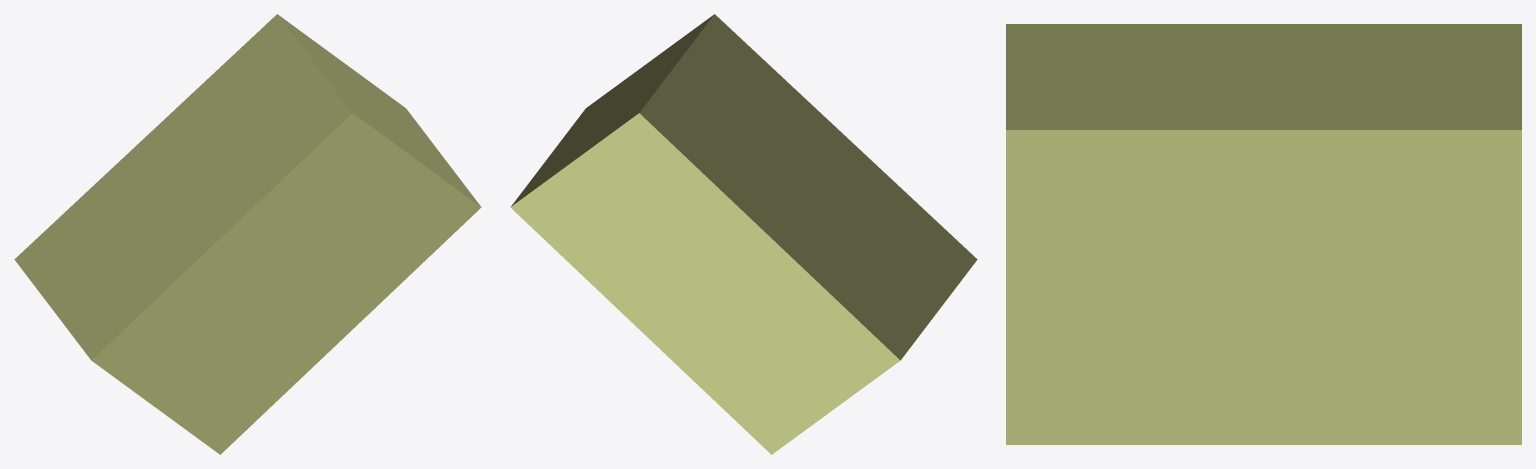
The picture shows the model from 3 angles, left to right: view 1: azimuth 30°, elevation 25°; view 2: azimuth 150°, elevation 25°; view 3: azimuth 270°, elevation 25°; orthographic projection. The views are drawn at different scales.
Visible parts, largest first — view 1: 0_1_0_0_3_0_3_2; view 2: 0_1_0_0_3_0_3_2; view 3: 0_1_0_0_3_0_3_2.
Boxes of the visible parts, x1,y1,x2,y2 form: 0_1_0_0_3_0_3_2: [14, 14, 481, 454]; 0_1_0_0_3_0_3_2: [510, 14, 977, 454]; 0_1_0_0_3_0_3_2: [1006, 24, 1521, 444].
Size of the model in its own units: 13.64 by 11.6 by 9.
